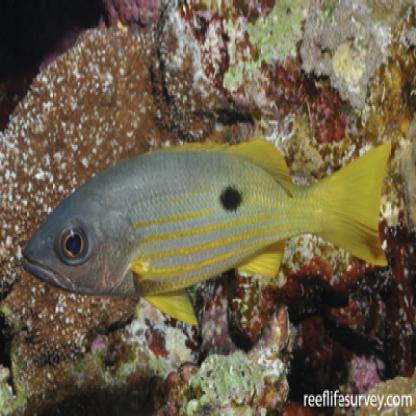Lutjanidae -Snappers-: (17, 132, 399, 333)
